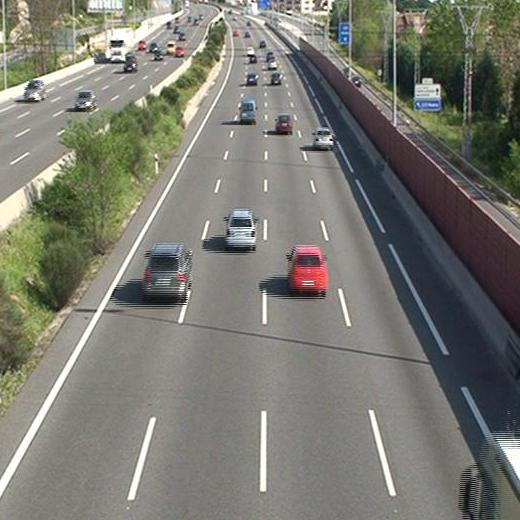car: (143, 245, 191, 298), (288, 247, 327, 295), (225, 210, 256, 249), (313, 129, 334, 148), (274, 114, 292, 132), (269, 73, 281, 84), (246, 74, 257, 85), (268, 58, 276, 69), (248, 54, 256, 63)
van: (240, 100, 256, 124)
